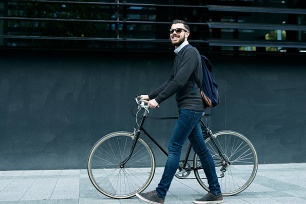male: (162, 18, 196, 52)
